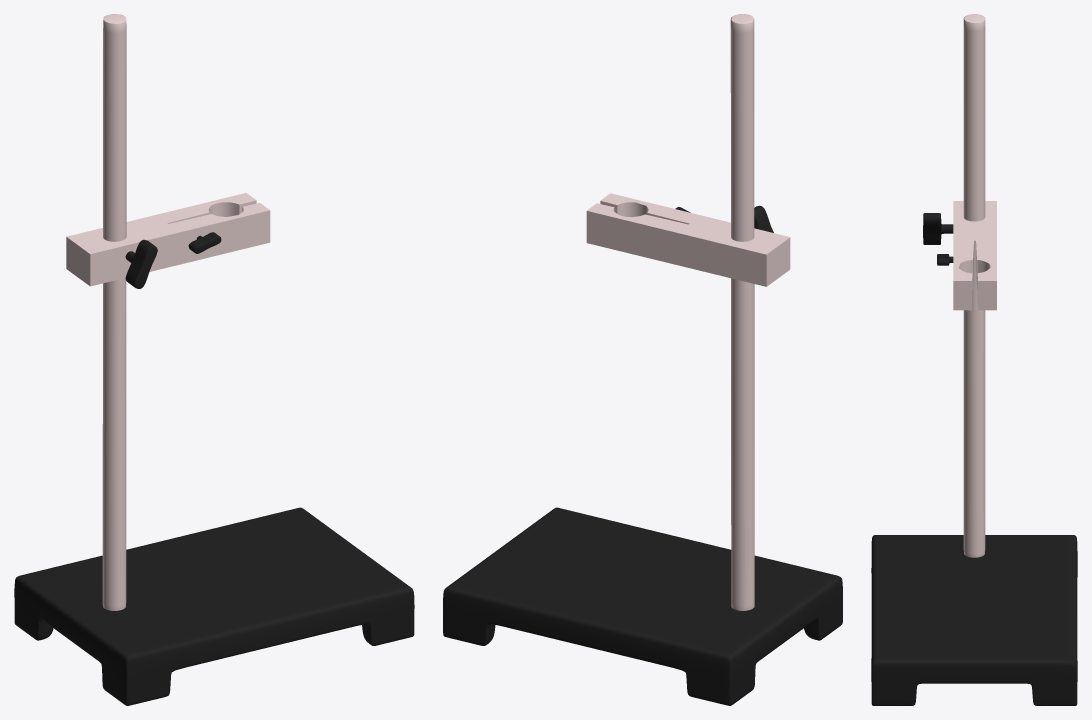
File: burette_stand.glb
3 renders of one model, left to right at view 1: azimuth 30°, elevation 25°; view 2: azimuth 150°, elevation 25°; view 3: azimuth 270°, elevation 25°, orthographic. The views are drawn at different scales.
Size of the model in its own units: 0.2491 by 0.5244 by 0.1689.
